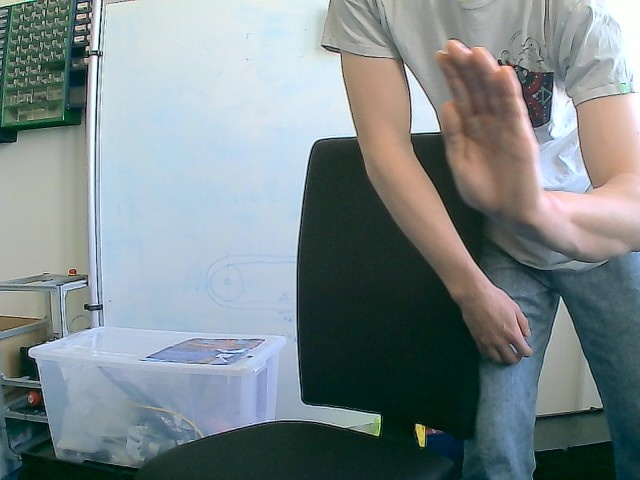no_gesture: (452, 275, 540, 372)
stop: (433, 37, 544, 222)
